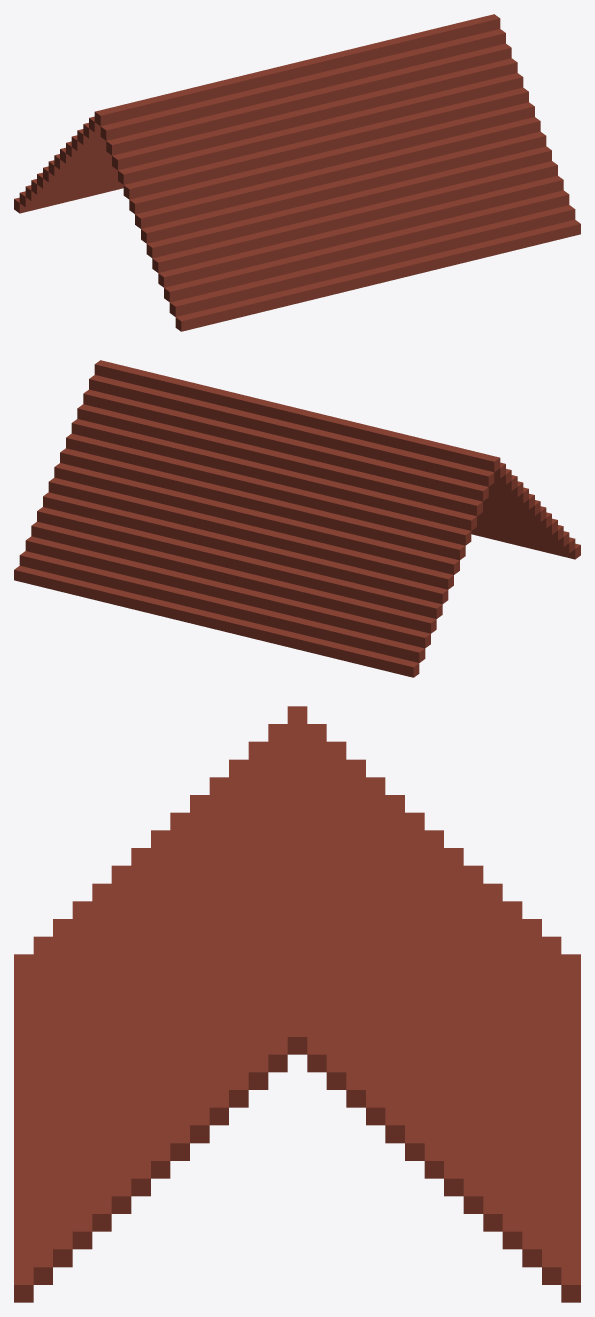
File: ConstructionMaterials-27.obj
3 views of the same model, one above another, from view 1: azimuth 30°, elevation 25°; view 2: azimuth 150°, elevation 25°; view 3: azimuth 270°, elevation 25° (orthographic). The views are drawn at different scales.
Bounding box in the file's own units: 4 × 1.5 × 2.9.
1 material, 1 textured.
